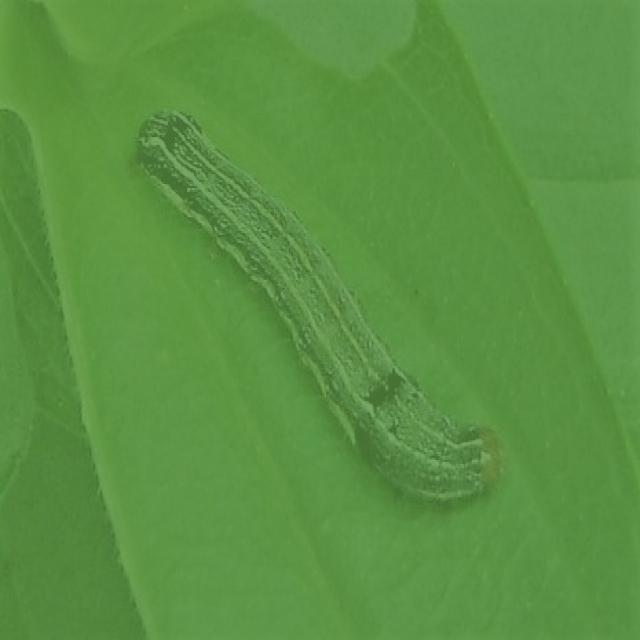armyworm: (135, 104, 504, 505)
